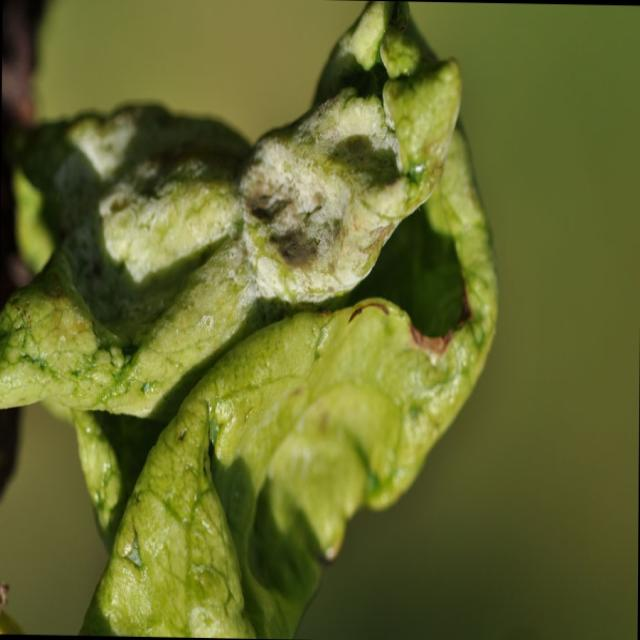peach_leaf_curl: (1, 1, 499, 637)
